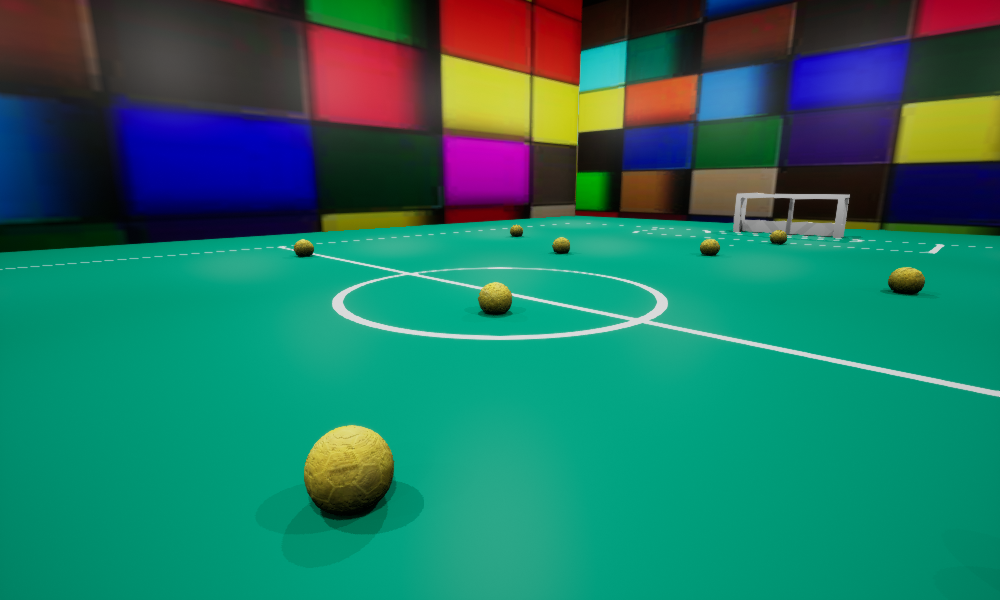b: (304, 425, 393, 515), (478, 282, 511, 314), (888, 267, 924, 292), (294, 239, 313, 256), (700, 239, 719, 255), (552, 237, 569, 253), (770, 230, 786, 243), (510, 224, 522, 235)
g: (733, 193, 849, 237)
